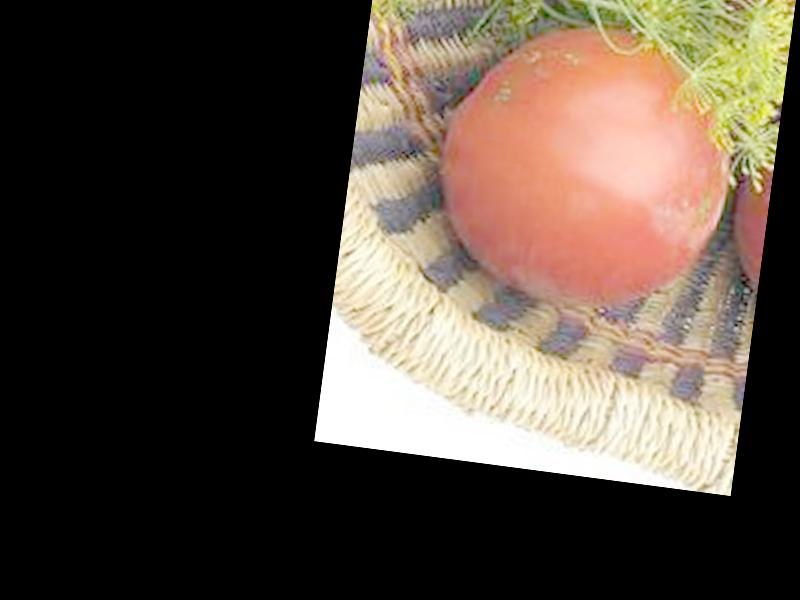Tomato: (429, 7, 747, 323)
